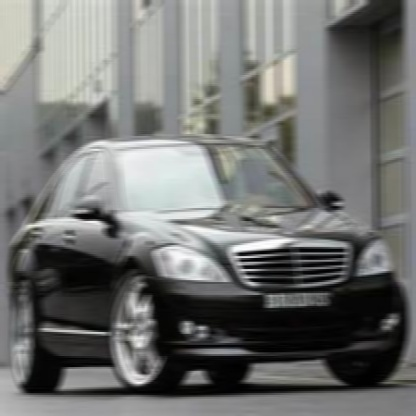Vehicle: (6, 128, 414, 398)
